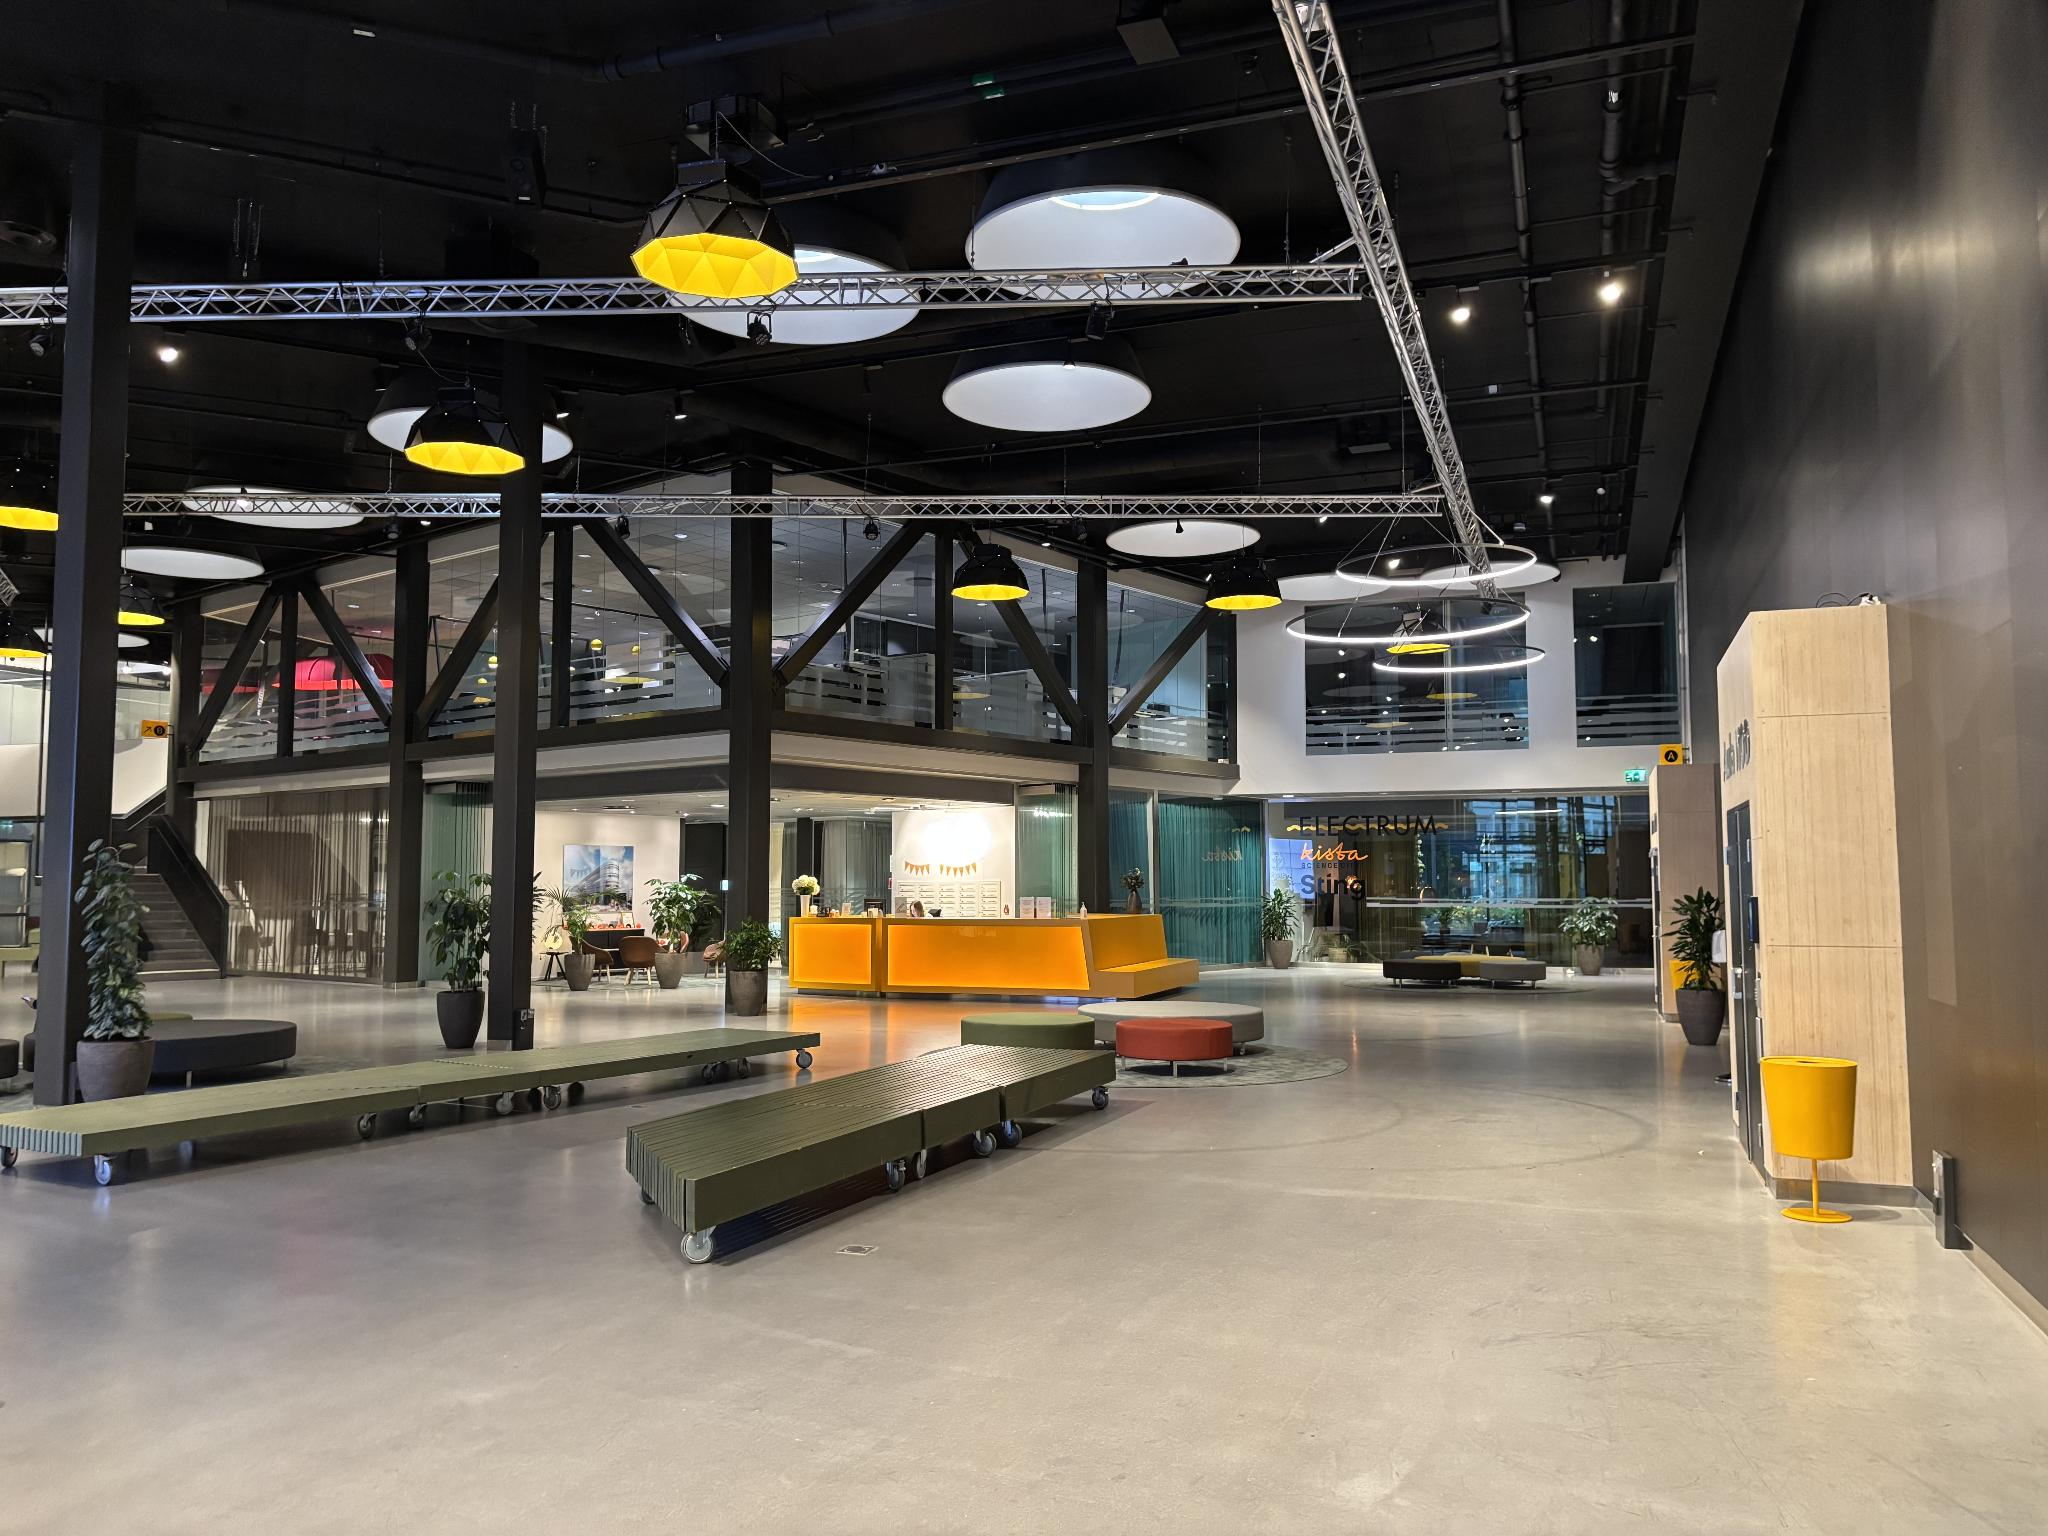exit_sign: (1624, 768, 1645, 783)
